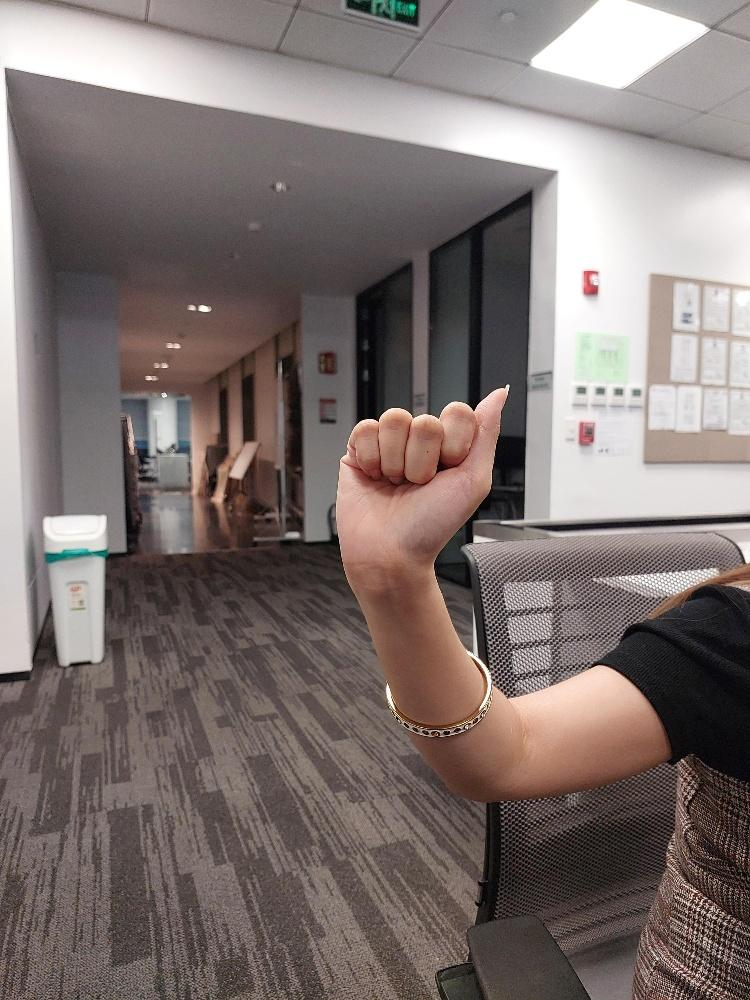a: (331, 381, 513, 588)
